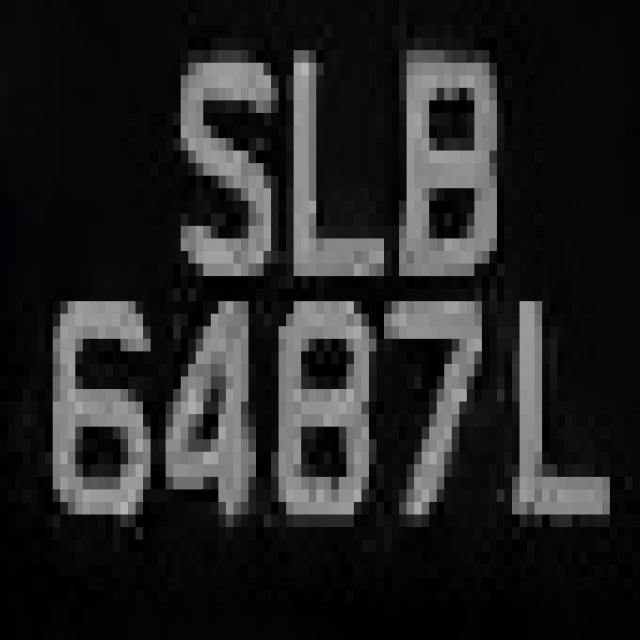4: (143, 276, 271, 565)
6: (53, 251, 158, 590)
7: (369, 264, 467, 540)
8: (264, 276, 376, 552)
B: (384, 25, 520, 314)
L: (482, 288, 632, 564), (271, 25, 399, 301)
S: (158, 25, 286, 276)
